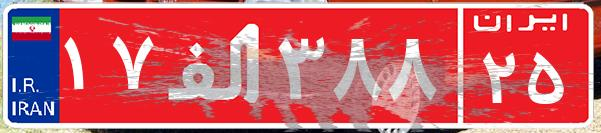1: (57, 26, 110, 107)
2: (475, 38, 525, 113)
3: (273, 28, 330, 110)
5: (525, 38, 570, 115)
7: (110, 28, 158, 105)
8: (385, 28, 445, 110), (330, 28, 385, 110)
الف: (158, 15, 273, 115)
